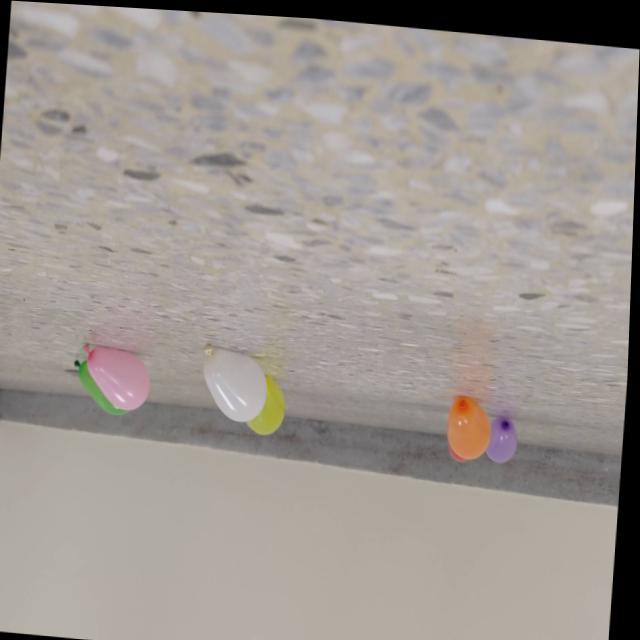other: (201, 339, 272, 421), (81, 341, 157, 411), (72, 355, 133, 416), (449, 388, 495, 455), (246, 369, 289, 434), (487, 410, 521, 459)
